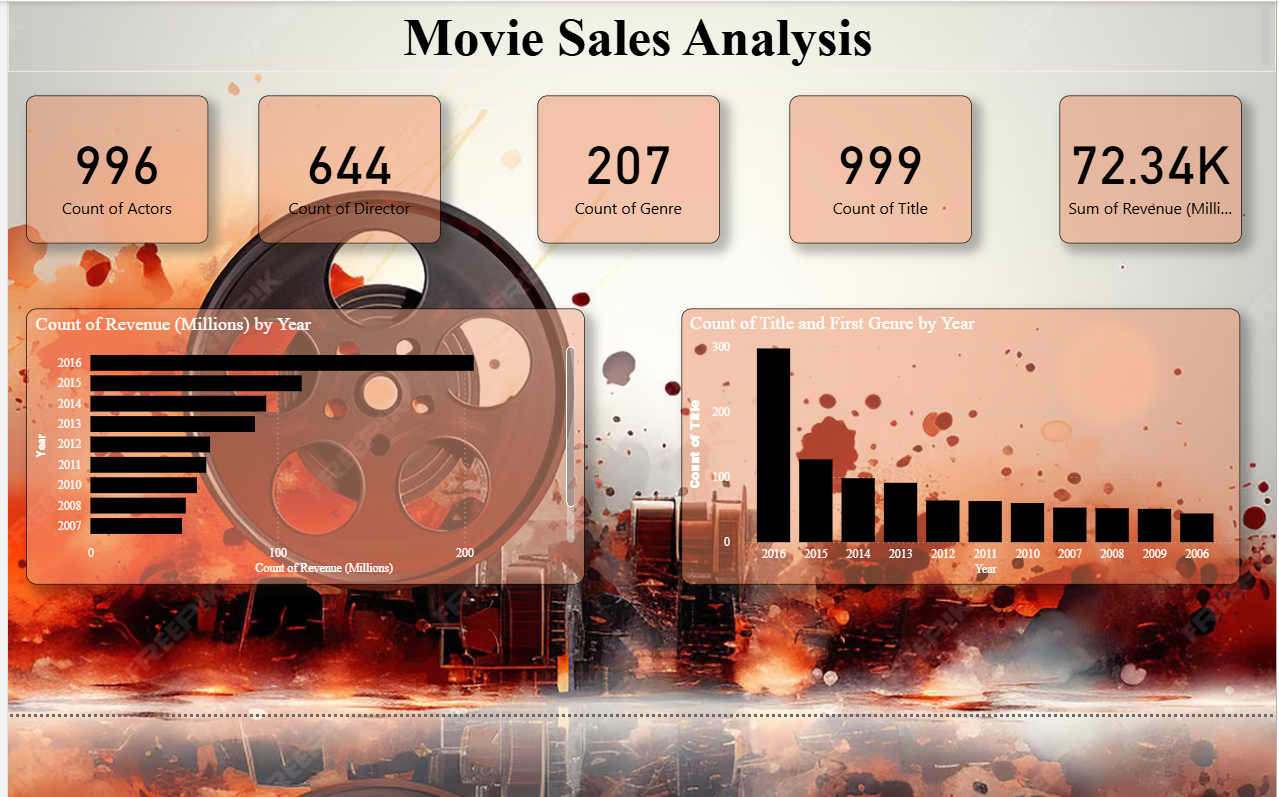

The dashboard page shown, as its layout file describes it:
{"tool":"powerbi","page":{"name":"Page 1","canvas":[1280,720],"ordinal":0},"visuals":[{"type":"textbox","box":[0,0,1280.3,71.4],"z":0},{"type":"lineStackedColumnComboChart","fields":{"Category":["IMDB-Movie-Data.Year"],"Y":["IMDB-Movie-Data.Title"]},"box":[680.6,310.1,564,278.6],"z":1000},{"type":"clusteredBarChart","fields":{"Category":["IMDB-Movie-Data.Year"],"Y":["IMDB-Movie-Data.Revenue (Millions)"]},"box":[17.8,310.1,564,278.6],"z":2000},{"type":"card","fields":{"Values":["IMDB-Movie-Data.Actors"]},"box":[17.8,96.1,183.9,149.6],"z":3000},{"type":"card","fields":{"Values":["IMDB-Movie-Data.Director"]},"box":[252.5,96.1,183.9,149.6],"z":4000},{"type":"card","fields":{"Values":["IMDB-Movie-Data.Title"]},"box":[789,96.1,183.9,149.6],"z":5000},{"type":"card","fields":{"Values":["IMDB-Movie-Data.Revenue (Millions)"]},"box":[1060.7,96.1,183.9,149.6],"z":6000},{"type":"card","fields":{"Values":["IMDB-Movie-Data.Genre"]},"box":[535.2,96.1,183.9,149.6],"z":7000}]}

Visuals, with their boxes on the page's 1280x720 design canvas (x1, y1, x2, y2). These are canvas units, not pixel positions in the 1279x797 screenshot, which may show the page scaled, cropped or inside an application window:
textbox: x1=0, y1=0, x2=1280, y2=71
lineStackedColumnComboChart - IMDB-Movie-Data.Year x IMDB-Movie-Data.Title: x1=681, y1=310, x2=1245, y2=589
clusteredBarChart - IMDB-Movie-Data.Year x IMDB-Movie-Data.Revenue (Millions): x1=18, y1=310, x2=582, y2=589
card - IMDB-Movie-Data.Actors: x1=18, y1=96, x2=202, y2=246
card - IMDB-Movie-Data.Director: x1=252, y1=96, x2=436, y2=246
card - IMDB-Movie-Data.Title: x1=789, y1=96, x2=973, y2=246
card - IMDB-Movie-Data.Revenue (Millions): x1=1061, y1=96, x2=1245, y2=246
card - IMDB-Movie-Data.Genre: x1=535, y1=96, x2=719, y2=246
